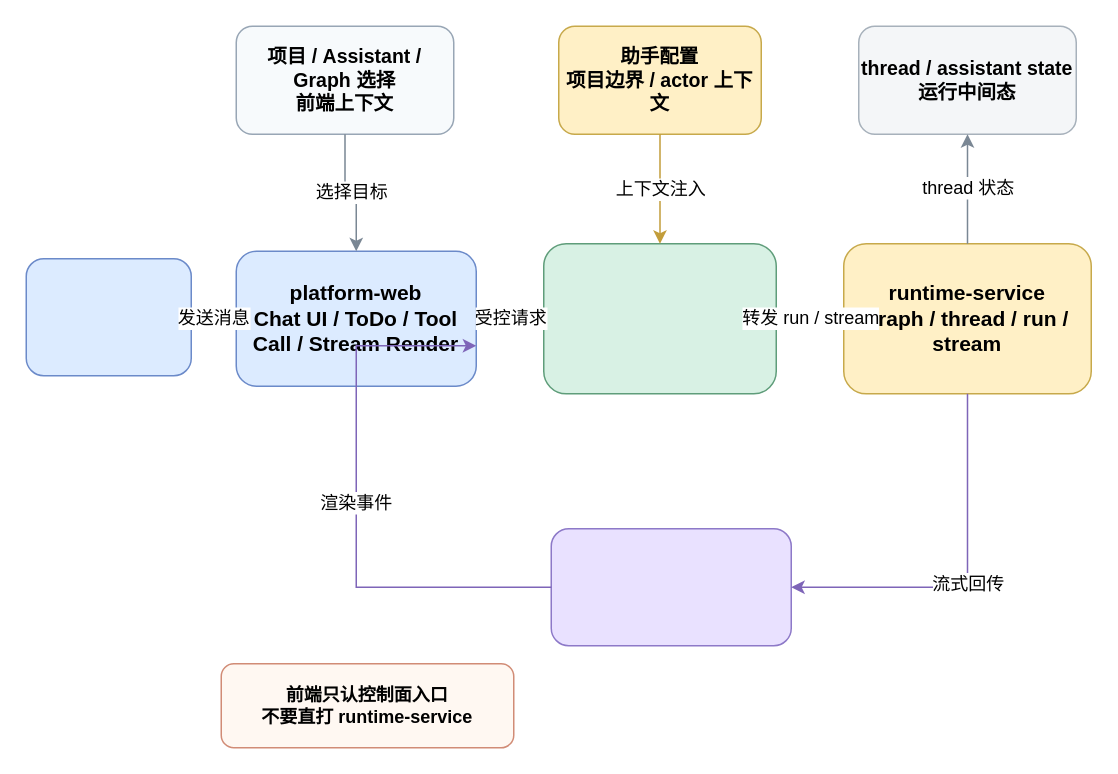
Image size: 1118x774. Some labels were removed from this diagram. Here are the shapes that lost their labels. From the top down, the centre of each, then its label:
At (x=108, y=316): "用户 Chat 页面".
At (x=659, y=318): "platform-api runtime_gateway / assistants".
At (x=670, y=586): "流式事件 message / tool / todo / interrupt".
